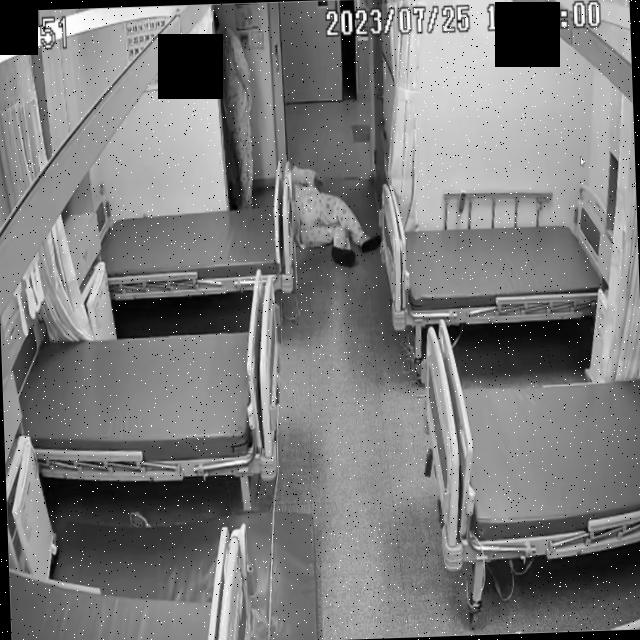bed: (420, 312, 640, 565), (14, 319, 282, 481), (378, 203, 616, 330), (101, 194, 293, 298)
fall: (290, 154, 382, 270)
patient: (292, 156, 378, 268), (216, 2, 256, 208)
